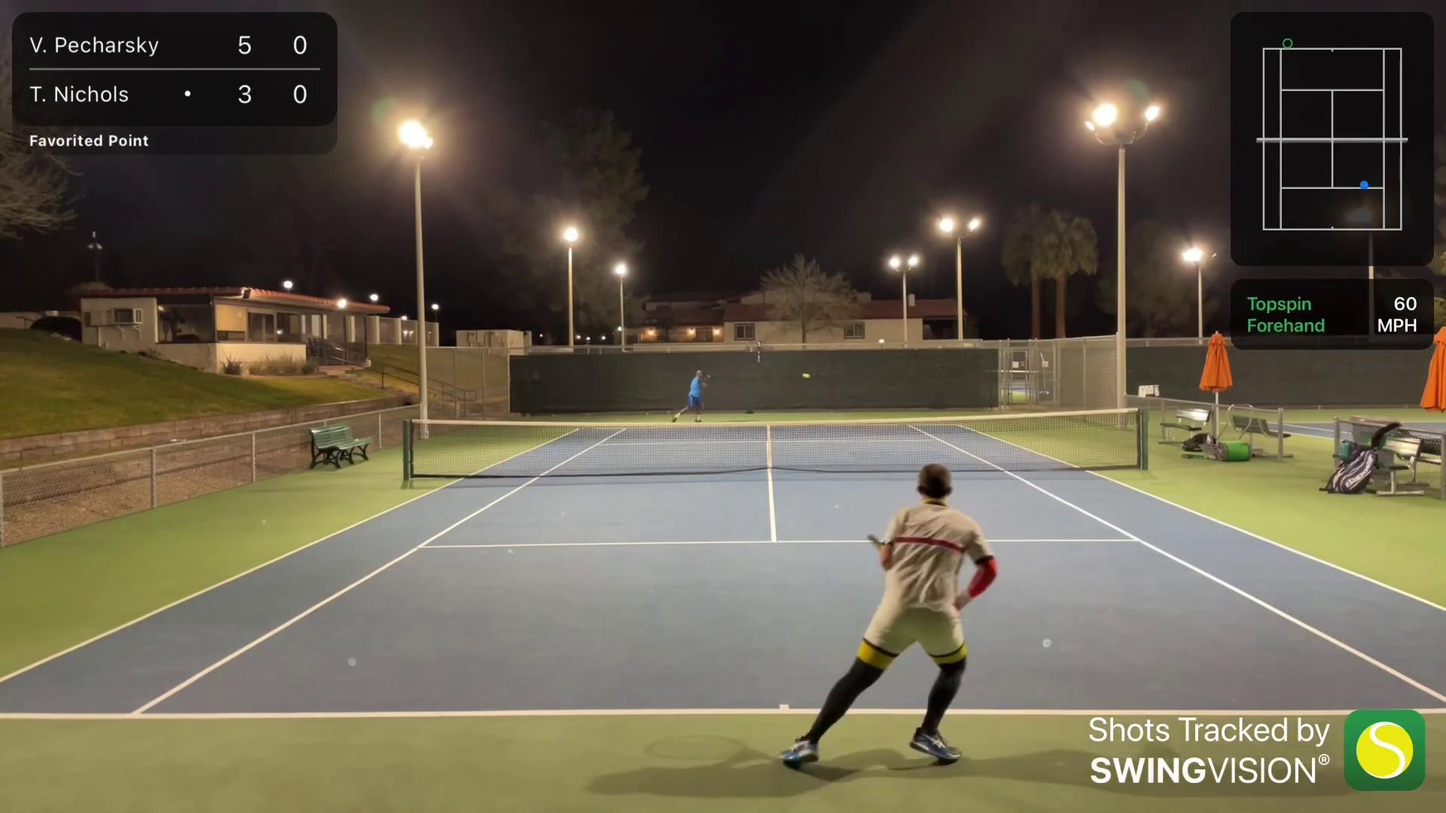ball: (805, 374, 812, 379)
